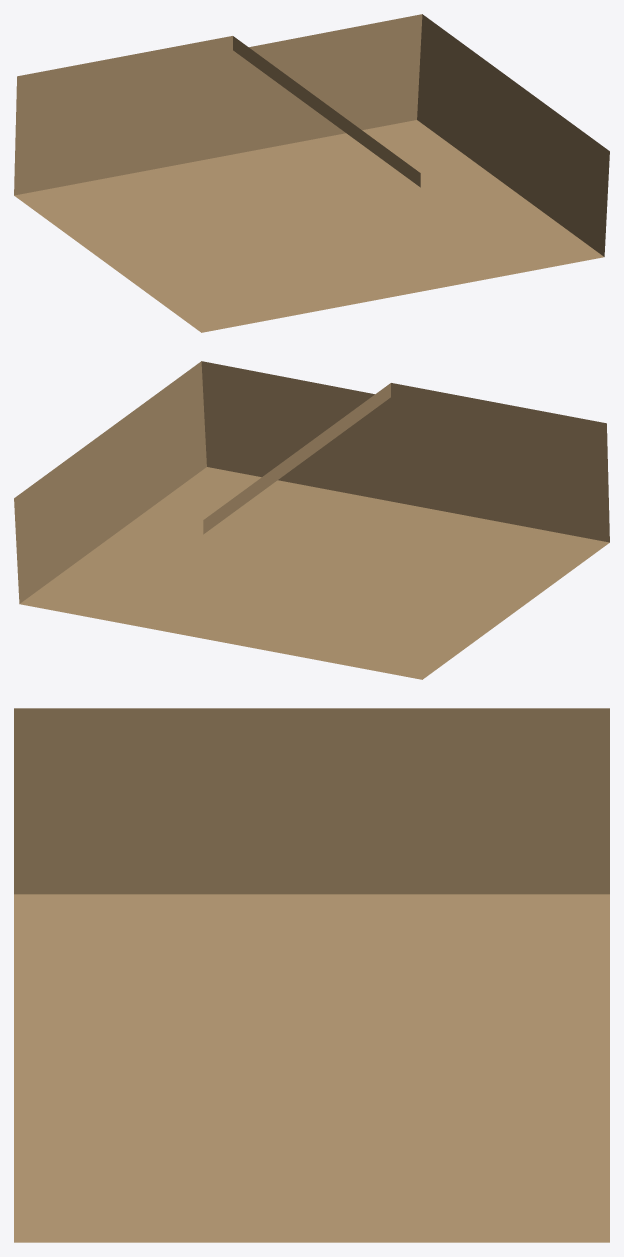
The picture shows the model from 3 angles, top to bottom: view 1: azimuth 30°, elevation 25°; view 2: azimuth 150°, elevation 25°; view 3: azimuth 270°, elevation 25°; orthographic projection. The views are drawn at different scales.
Parts seen in each view (by area): view 1: 0_0_3_1_3_3_2_2_1; view 2: 0_0_3_1_3_3_2_2_1; view 3: 0_0_3_1_3_3_2_2_1.
Part boxes in pixels (box(x1,y1,x2,y2)): 0_0_3_1_3_3_2_2_1: box(14, 14, 609, 332); 0_0_3_1_3_3_2_2_1: box(14, 361, 609, 679); 0_0_3_1_3_3_2_2_1: box(14, 708, 609, 1242).
Bounding box in the file's own units: 33.95 × 11.21 × 27.
